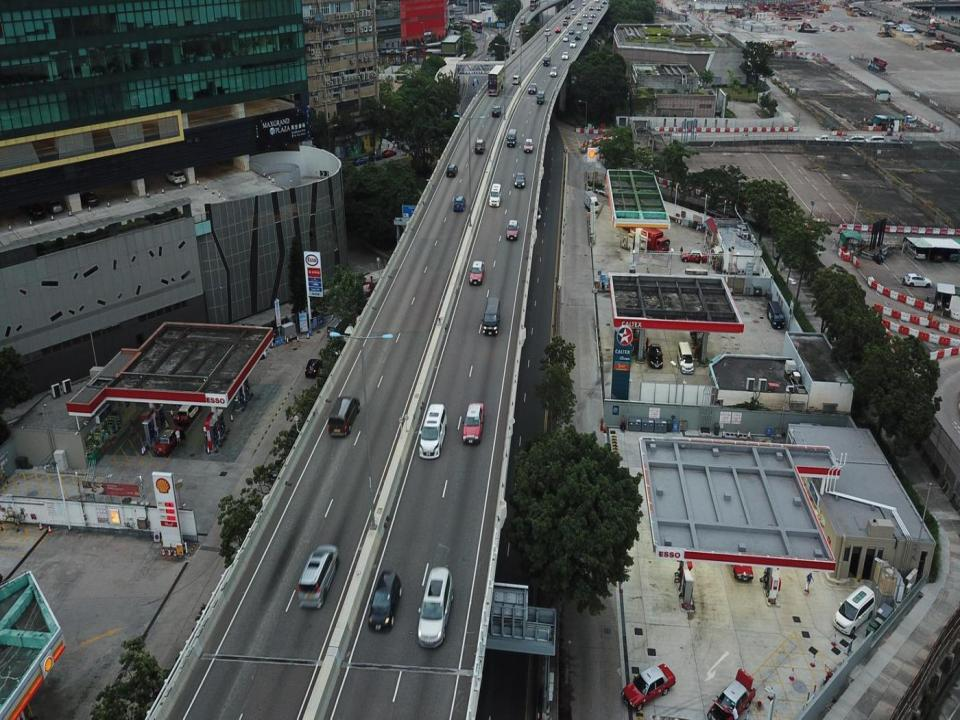bus: (486, 64, 504, 95), (470, 18, 483, 33), (528, 0, 543, 11)
car: (696, 668, 760, 719), (620, 662, 676, 710), (328, 397, 360, 437), (460, 401, 486, 444), (727, 542, 754, 581), (154, 426, 178, 457), (174, 400, 200, 424), (920, 240, 944, 264), (41, 198, 67, 216), (940, 236, 958, 262), (469, 259, 485, 286), (905, 273, 932, 289), (21, 202, 45, 220), (74, 191, 100, 206), (305, 357, 323, 378), (648, 345, 663, 369), (680, 249, 707, 262), (165, 169, 187, 184), (505, 219, 520, 240), (907, 244, 925, 261), (352, 155, 370, 169), (514, 173, 526, 189), (522, 137, 534, 153), (368, 152, 382, 164), (446, 163, 457, 177), (474, 139, 485, 153), (491, 103, 501, 118), (527, 81, 538, 94), (535, 92, 546, 104), (382, 149, 396, 157), (511, 74, 520, 85), (550, 66, 558, 77), (561, 50, 569, 61), (472, 78, 479, 86), (510, 47, 517, 54), (555, 26, 561, 34), (544, 28, 550, 36), (514, 30, 520, 38)
truck: (625, 221, 671, 261), (582, 189, 601, 214), (519, 16, 526, 26)
van: (417, 566, 453, 646), (296, 544, 340, 606), (364, 570, 401, 632), (832, 586, 875, 633), (418, 403, 448, 459), (480, 295, 502, 335), (677, 340, 694, 374), (766, 300, 785, 329), (488, 184, 501, 207), (454, 195, 466, 213), (505, 129, 516, 148), (542, 54, 552, 67)
